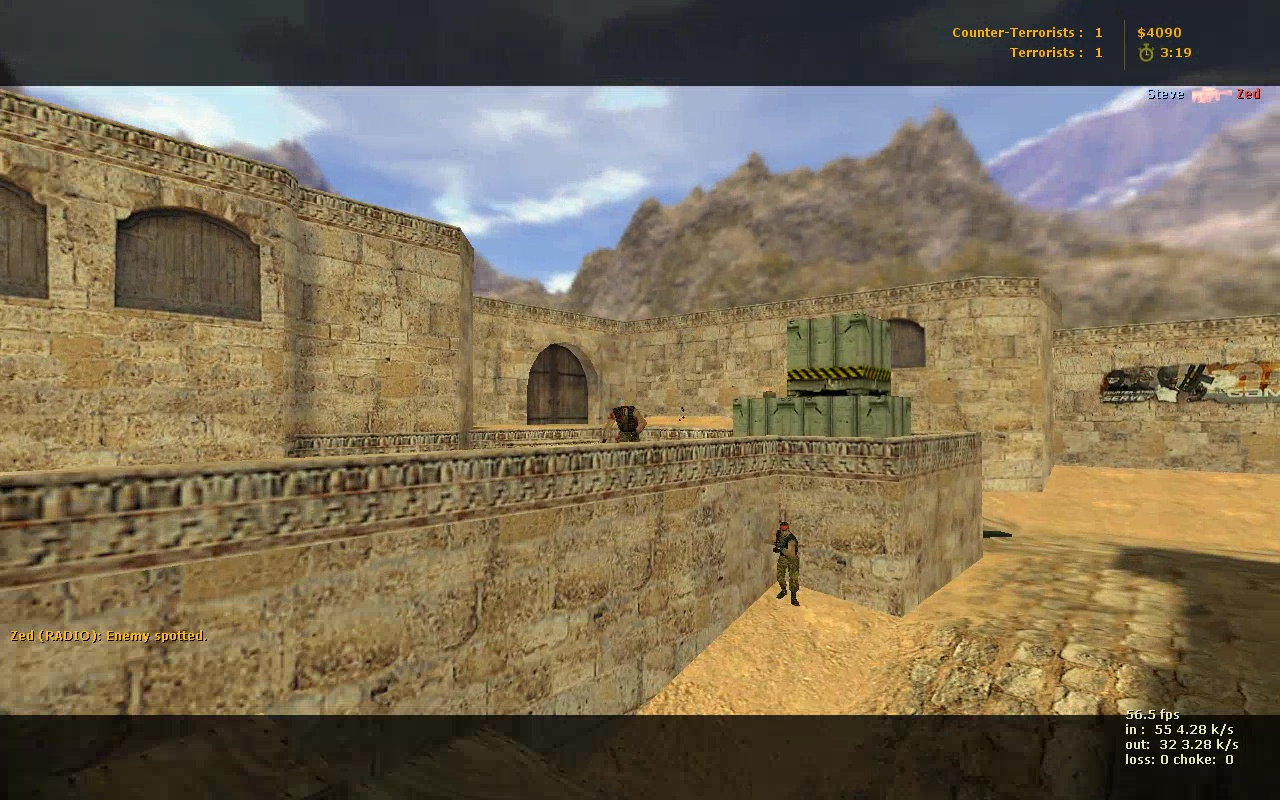terr1: (773, 521, 806, 605), (602, 403, 649, 449)
